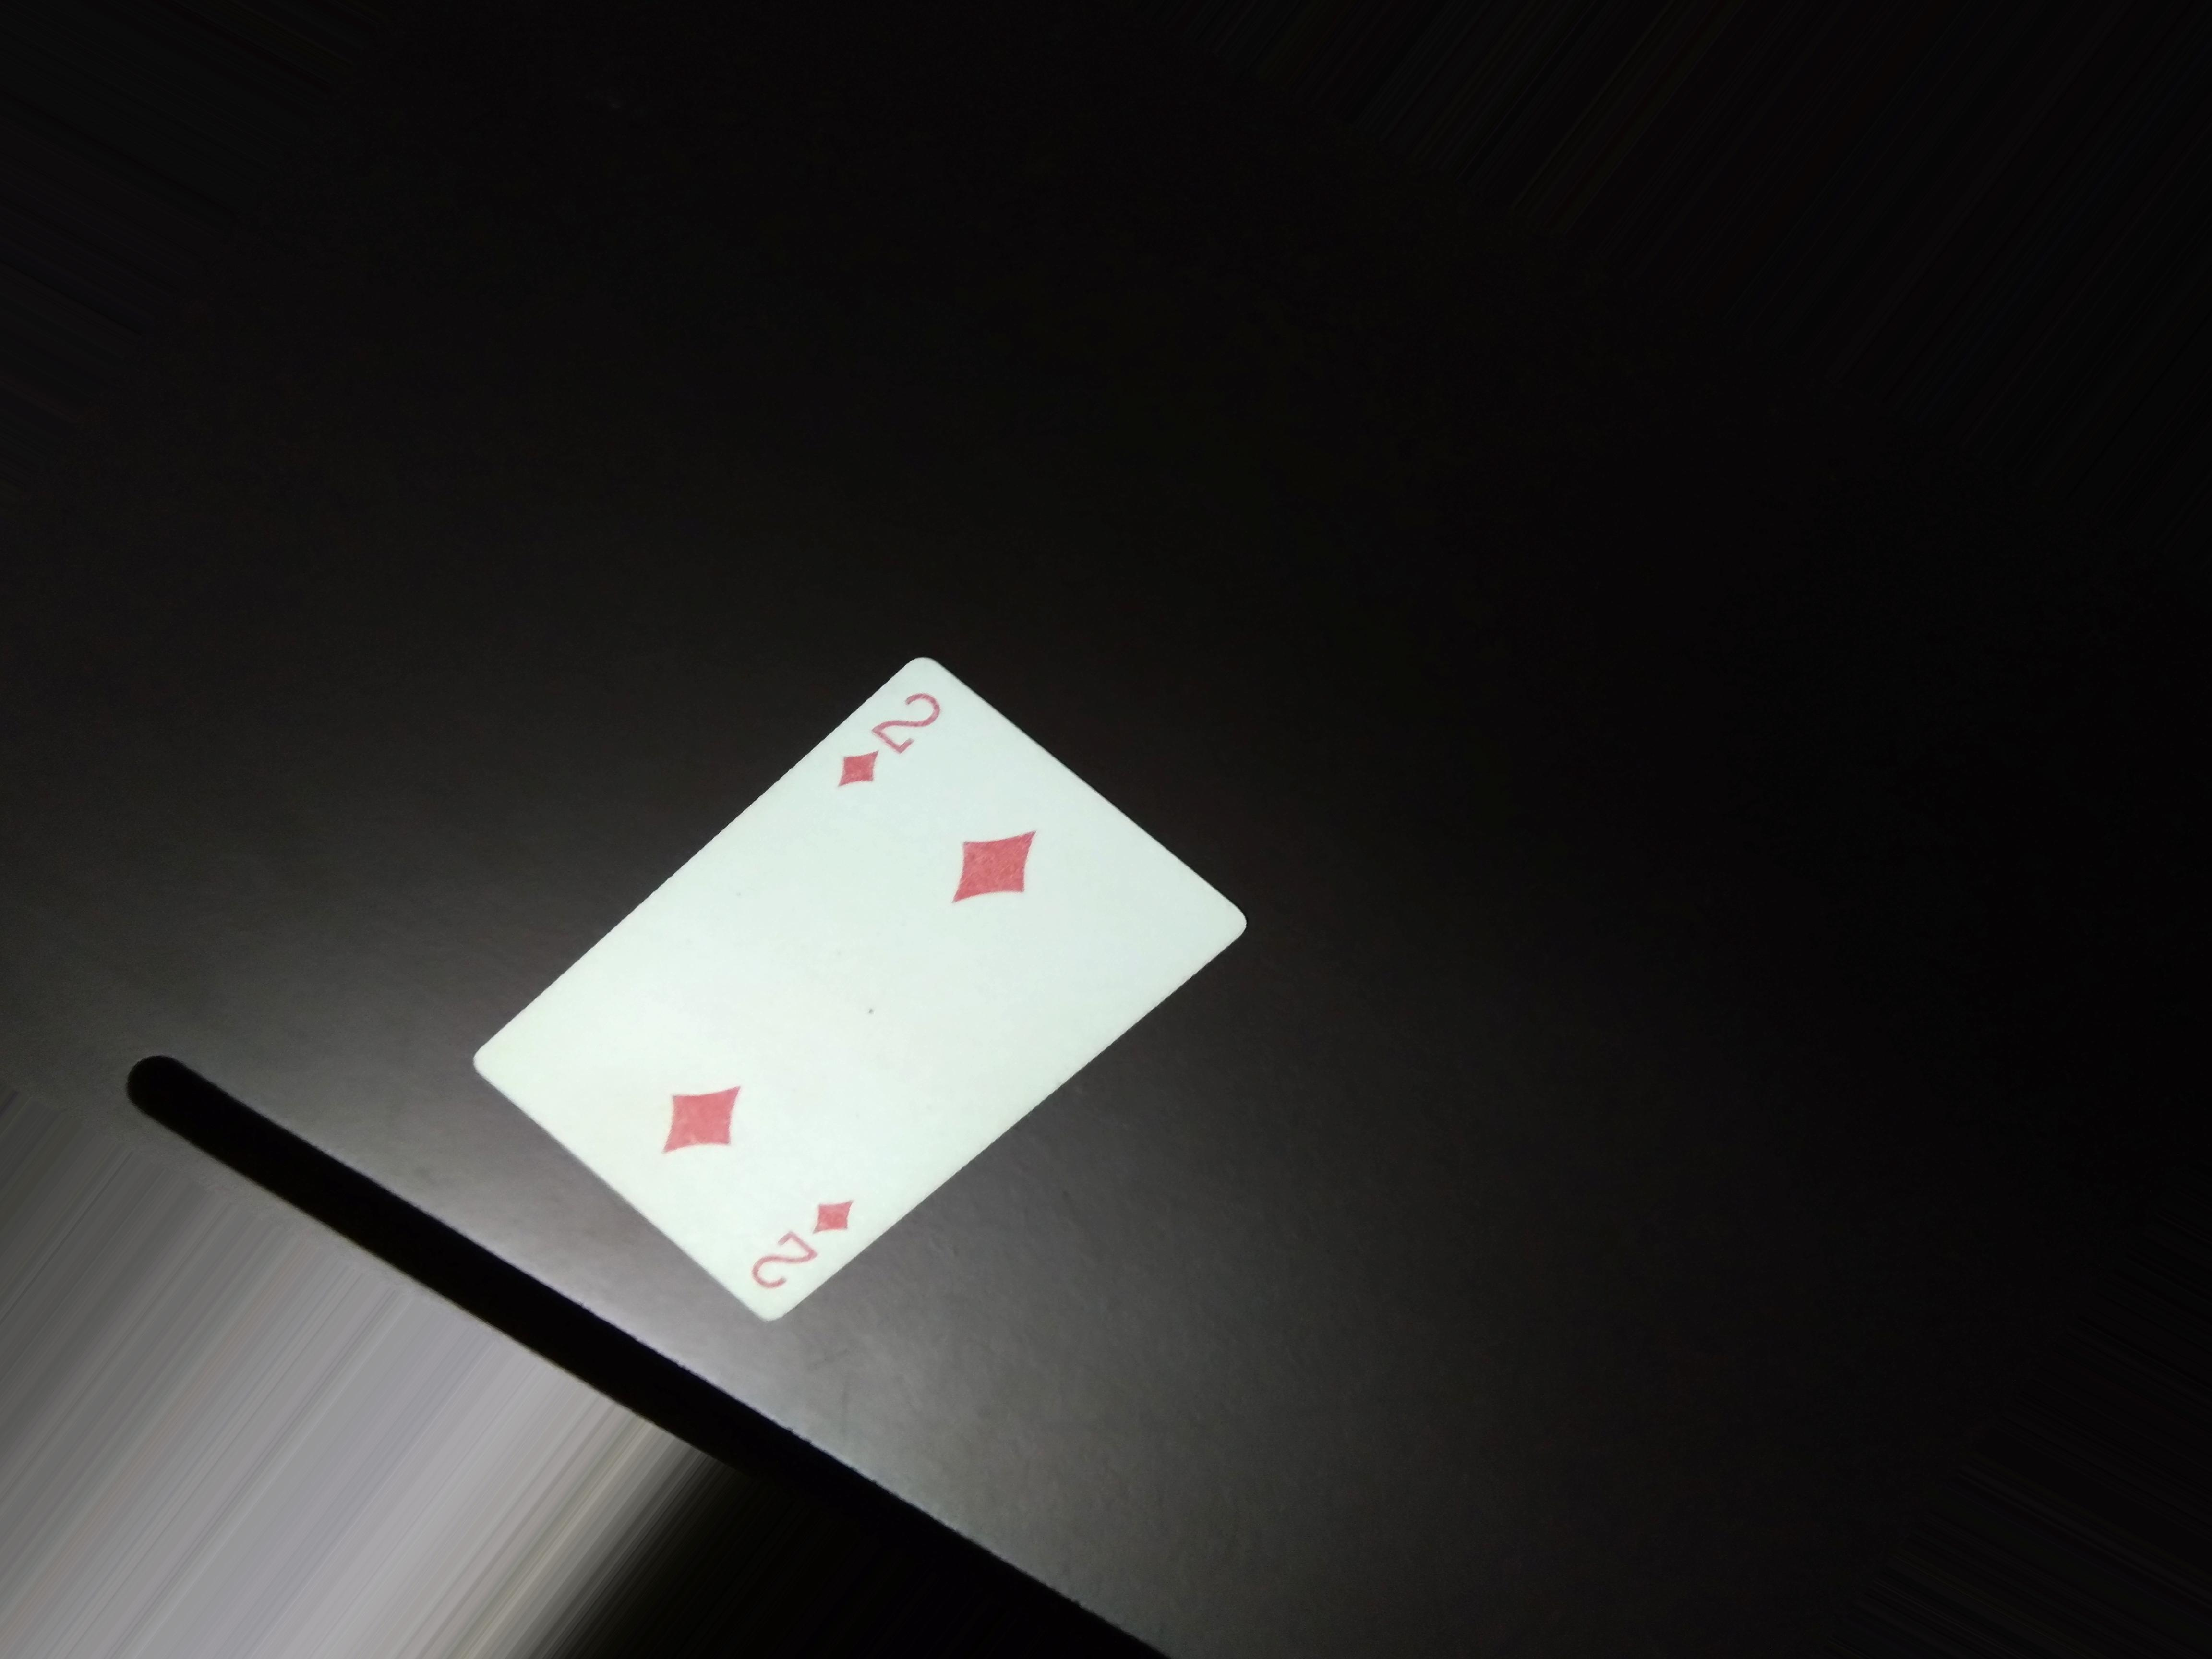2D: (735, 1180, 866, 1291)
